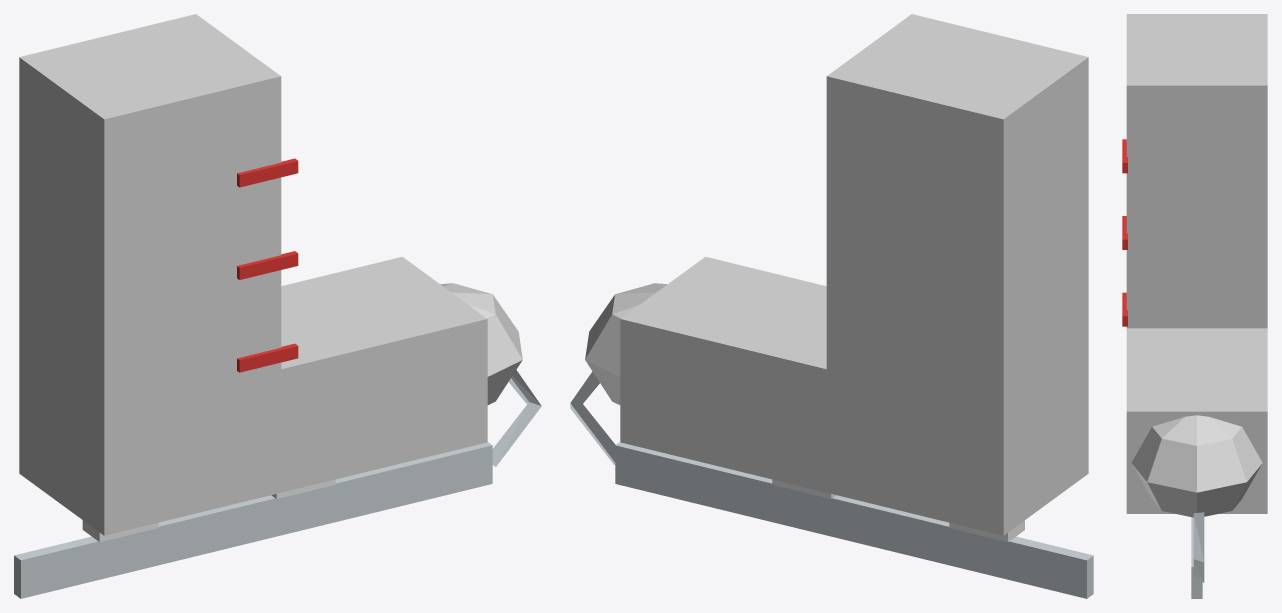
File: skridsko.glb
3 renders of one model, left to right at view 1: azimuth 30°, elevation 25°; view 2: azimuth 150°, elevation 25°; view 3: azimuth 270°, elevation 25°, orthographic. The views are drawn at different scales.
Visible parts, largest first — view 1: skridsko; view 2: skridsko; view 3: skridsko.
Boxes of the visible parts, left/top/right/bottom form: skridsko: left=14, top=14, right=541, bottom=598; skridsko: left=570, top=14, right=1093, bottom=598; skridsko: left=1122, top=14, right=1267, bottom=598.
Size of the model in its own units: 0.3543 by 0.3225 by 0.103.
